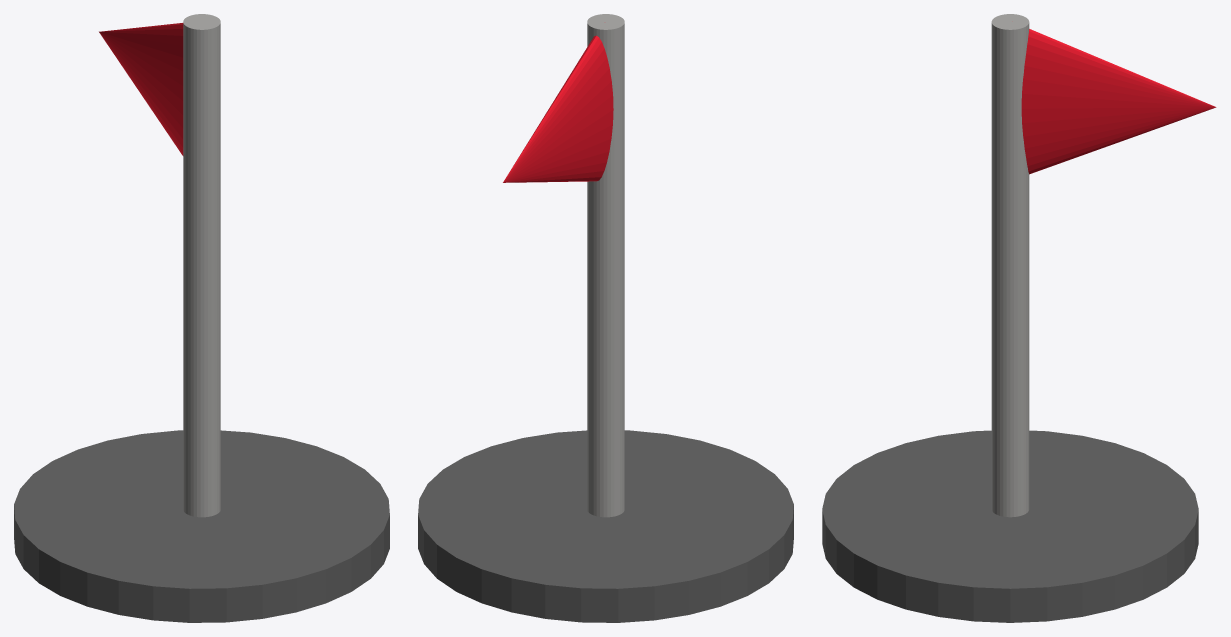
File: Hata.fbx
3 renders of one model, left to right at view 1: azimuth 30°, elevation 25°; view 2: azimuth 150°, elevation 25°; view 3: azimuth 270°, elevation 25°, orthographic.
Visible parts, largest first — view 1: 円柱, 円柱.001, 円錐; view 2: 円柱, 円柱.001, 円錐; view 3: 円柱, 円柱.001, 円錐.
Boxes of the visible parts, box(x1,y1,x2,y2) form: 円柱: box(14, 430, 389, 622); 円柱.001: box(183, 14, 220, 517); 円錐: box(99, 23, 183, 155); 円柱: box(418, 430, 793, 622); 円柱.001: box(587, 14, 624, 517); 円錐: box(503, 35, 613, 182); 円柱: box(822, 430, 1198, 622); 円柱.001: box(991, 14, 1029, 517); 円錐: box(1021, 29, 1216, 174).
Bounding box in the file's own units: 200 × 306 × 210.
